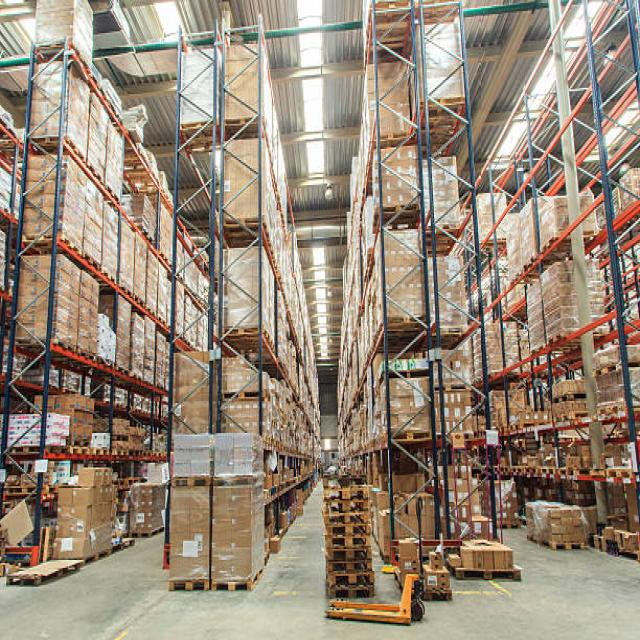Wooden-Pallets: (163, 573, 212, 602), (454, 564, 523, 582), (322, 530, 376, 552), (392, 422, 434, 449), (326, 566, 377, 586), (318, 484, 370, 502), (213, 576, 251, 596), (548, 536, 588, 555)
